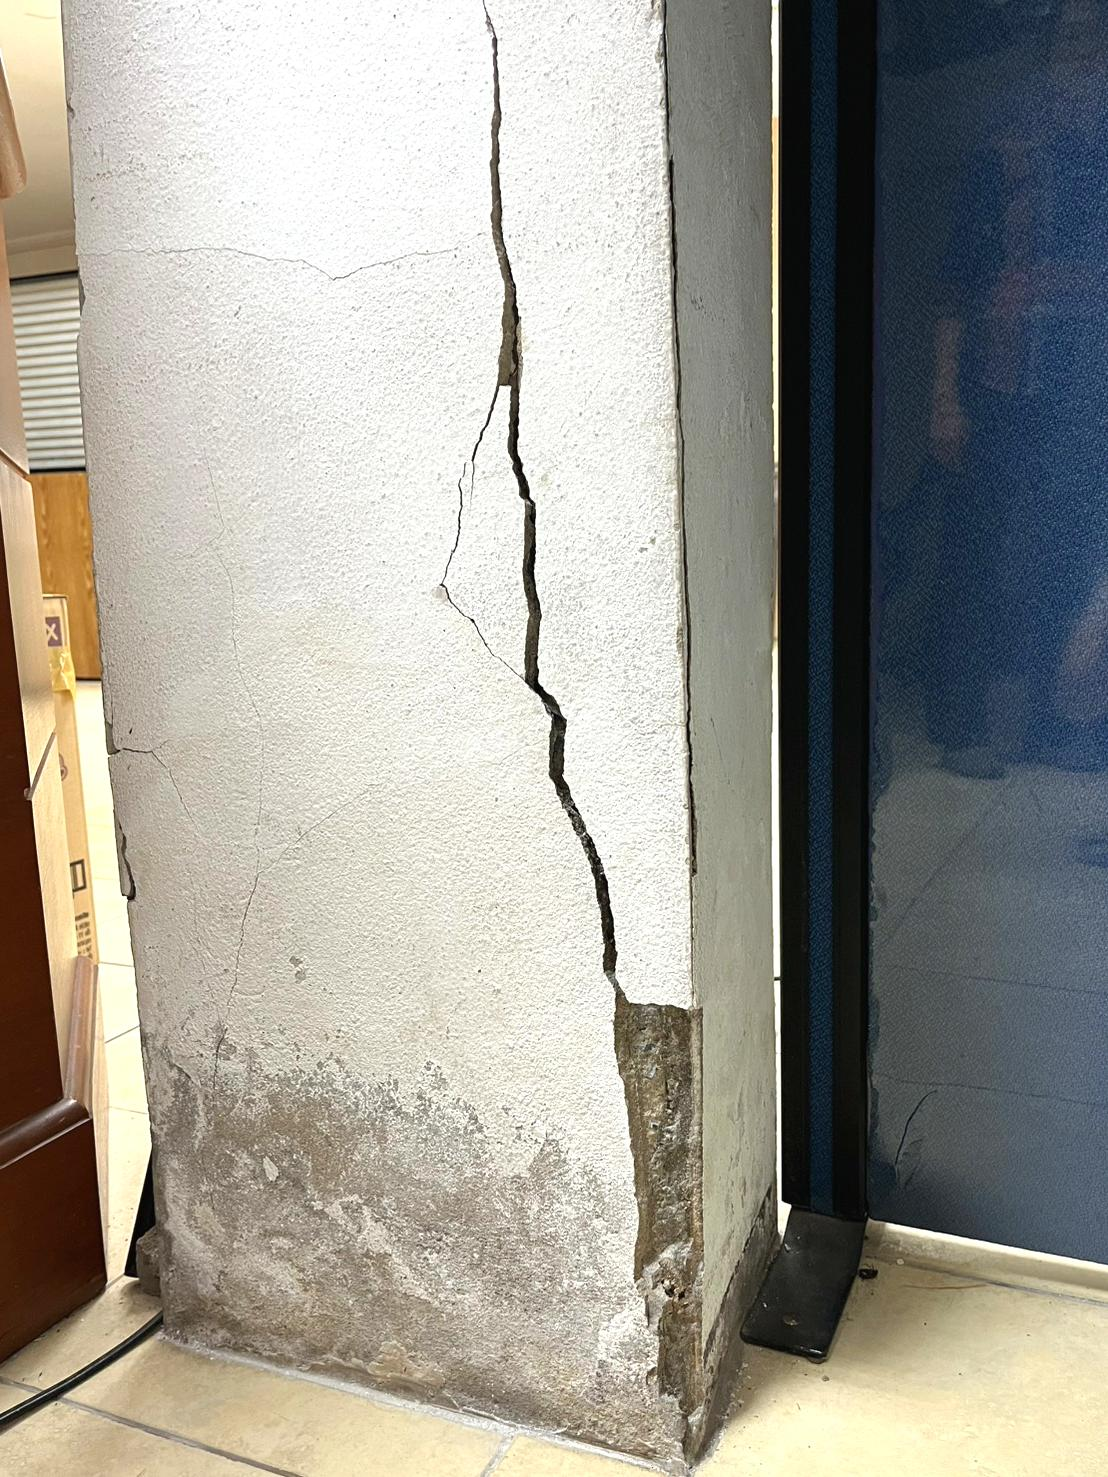High: (409, 7, 719, 1469)
